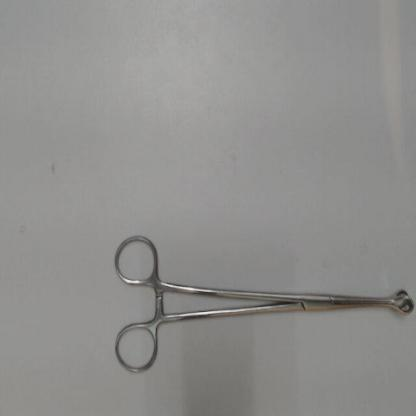8 Babcock Tissue Forceps: (106, 231, 414, 376)
